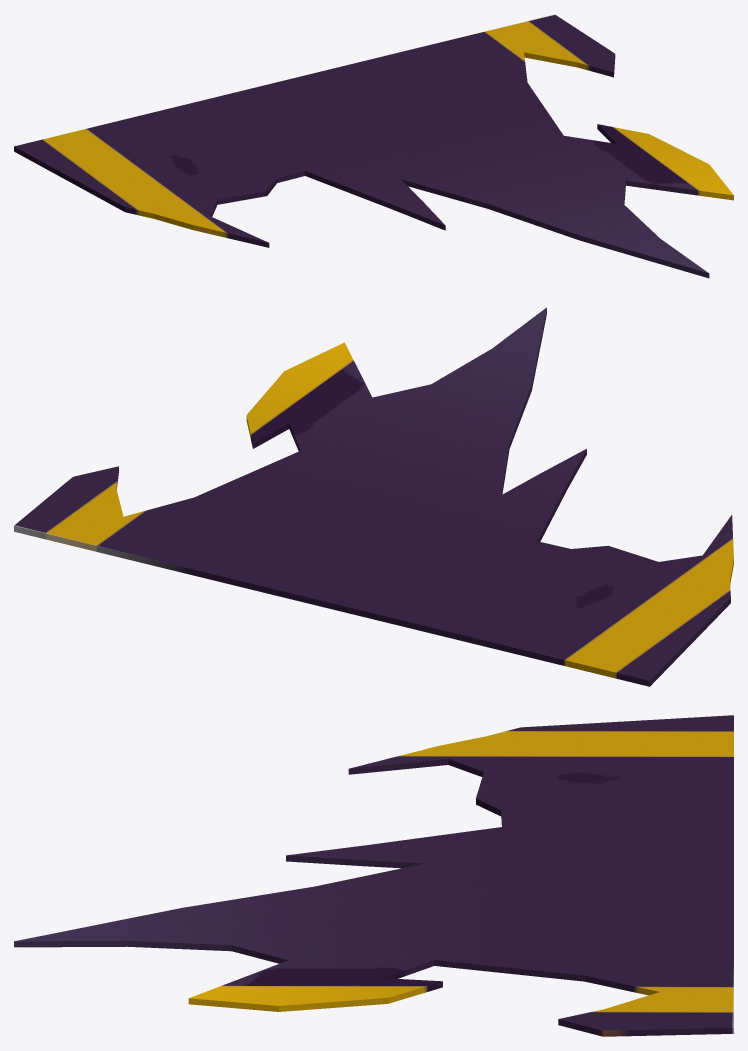
File: Carpet 01 End 02.fbx
3 renders of one model, top to bottom at view 1: azimuth 30°, elevation 25°; view 2: azimuth 150°, elevation 25°; view 3: azimuth 270°, elevation 25°, orthographic. The views are drawn at different scales.
Visible parts, largest first — view 1: Carpet 01 End 02; view 2: Carpet 01 End 02; view 3: Carpet 01 End 02.
Part boxes in pixels (box(x1,y1,x2,y2)): Carpet 01 End 02: box(14, 14, 733, 278); Carpet 01 End 02: box(14, 307, 733, 686); Carpet 01 End 02: box(14, 715, 733, 1036).
Size of the model in its own units: 168 by 1.5 by 162.
